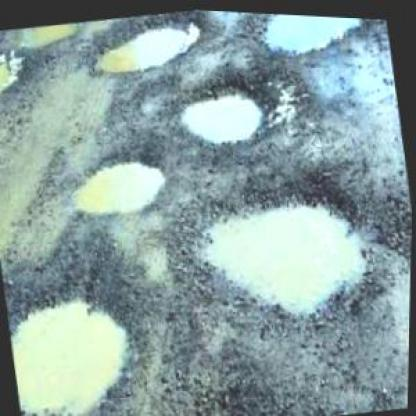pothole: (173, 154, 390, 347), (58, 136, 172, 226), (170, 64, 278, 154)
